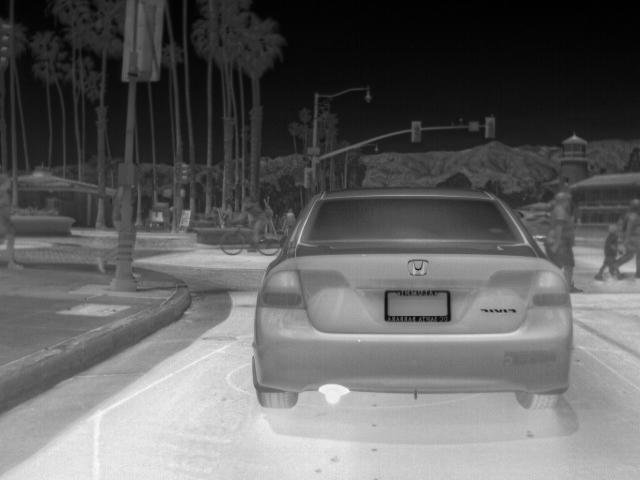car: (250, 185, 574, 413)
person: (542, 192, 585, 294), (2, 172, 26, 272), (616, 196, 640, 274), (232, 199, 268, 249), (595, 225, 624, 283)
